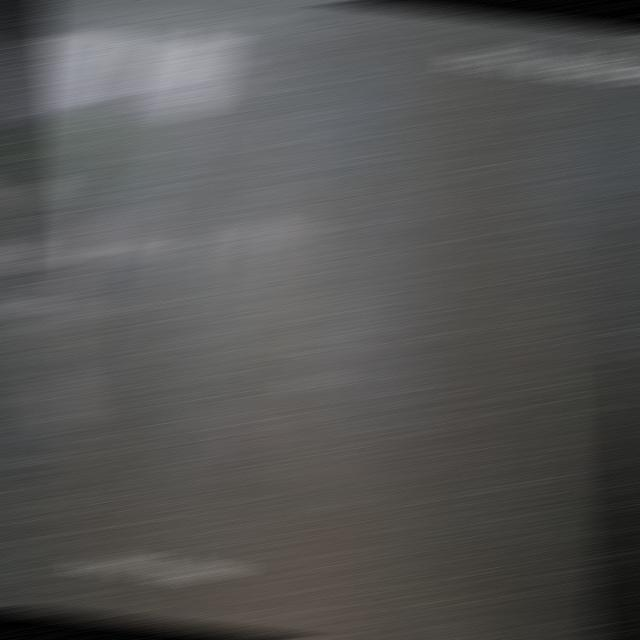cement_mixer_truck: (29, 187, 362, 508)
